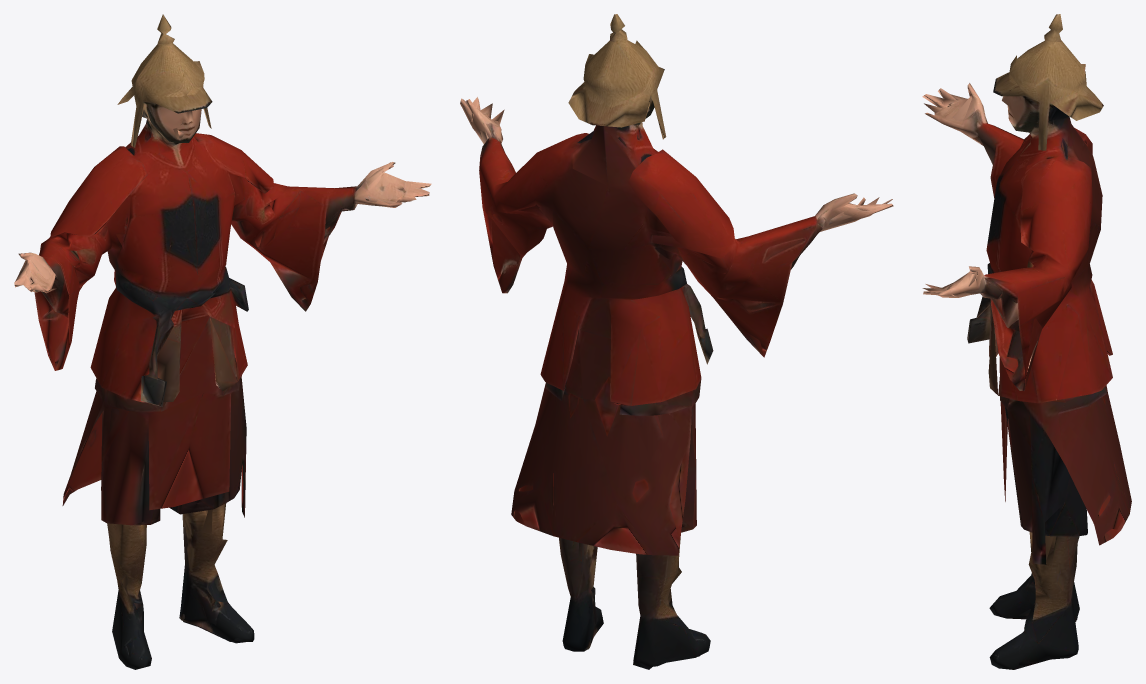
File: unit_DV_GIAO.glb
3 renders of one model, left to right at view 1: azimuth 30°, elevation 25°; view 2: azimuth 150°, elevation 25°; view 3: azimuth 270°, elevation 25°, orthographic. The views are drawn at different scales.
Bounding box in the file's own units: 1.33 × 1.9 × 0.575.
Materials: 1 (1 with a texture image).
